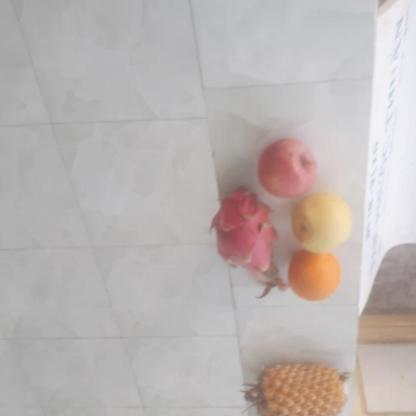apple: (260, 138, 320, 200)
pear: (288, 192, 356, 256)
pineapple: (252, 366, 350, 416)
pitaya: (211, 190, 288, 281)
